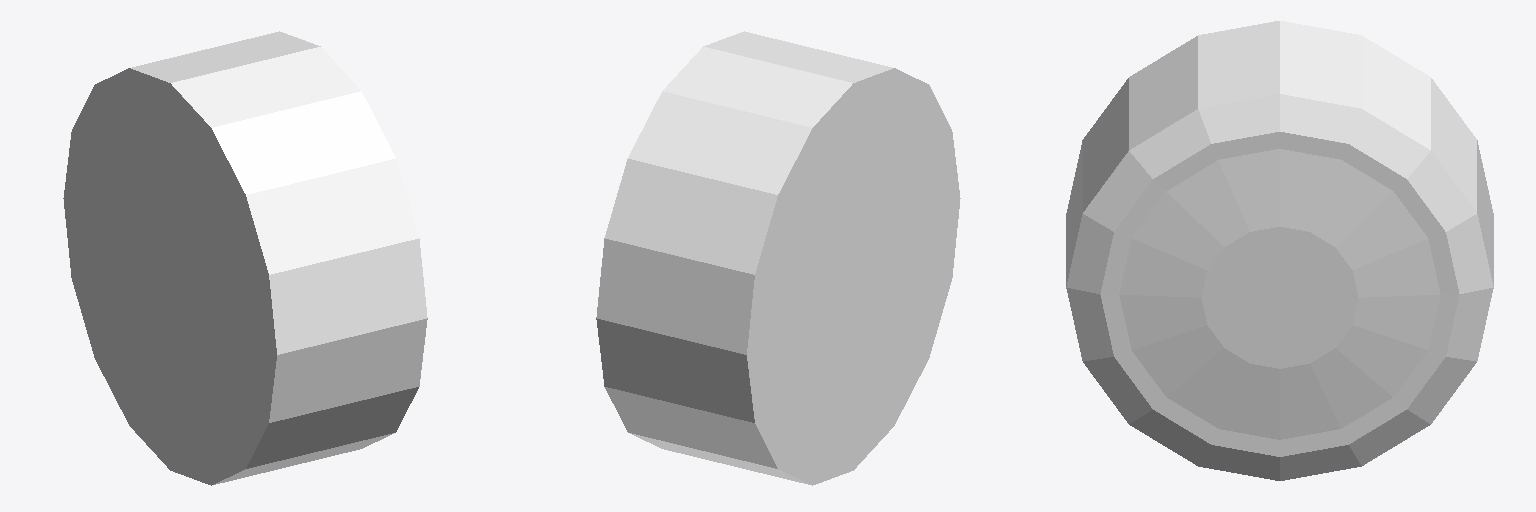
The model's file is wheel.obj.
3 renders of one model, left to right at view 1: azimuth 30°, elevation 25°; view 2: azimuth 150°, elevation 25°; view 3: azimuth 270°, elevation 25°, orthographic.
Visible parts, largest first — view 1: Wheel4_cylinder3_auv; view 2: Wheel4_cylinder3_auv; view 3: Wheel4_cylinder3_auv.
Part boxes in pixels (bbox=[...]): Wheel4_cylinder3_auv: bbox=[63, 31, 427, 485]; Wheel4_cylinder3_auv: bbox=[596, 31, 960, 485]; Wheel4_cylinder3_auv: bbox=[1066, 21, 1493, 480].
Size of the model in its own units: 0.374 by 0.808 by 0.808.